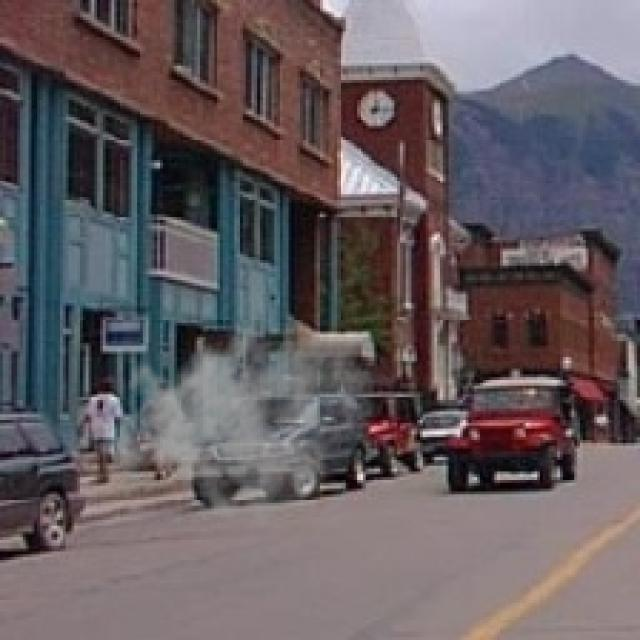Smoke: (109, 303, 378, 532)
